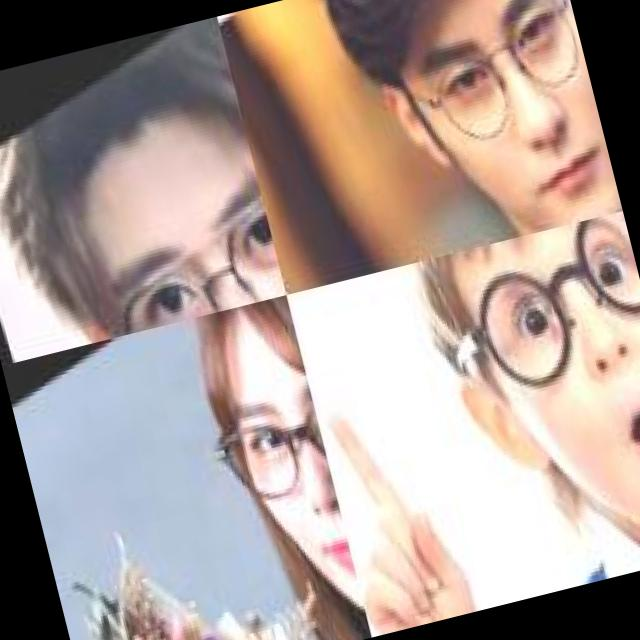glasses: (401, 211, 640, 448), (361, 0, 603, 192), (55, 157, 284, 340), (178, 333, 342, 557)
